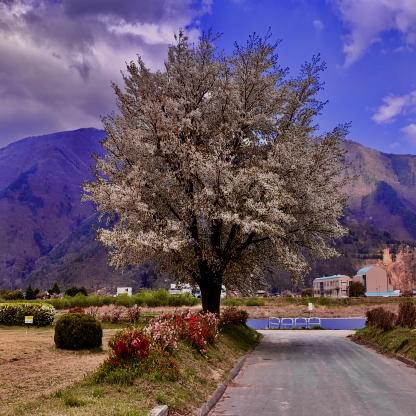OshimaSakura: (78, 21, 358, 283)
